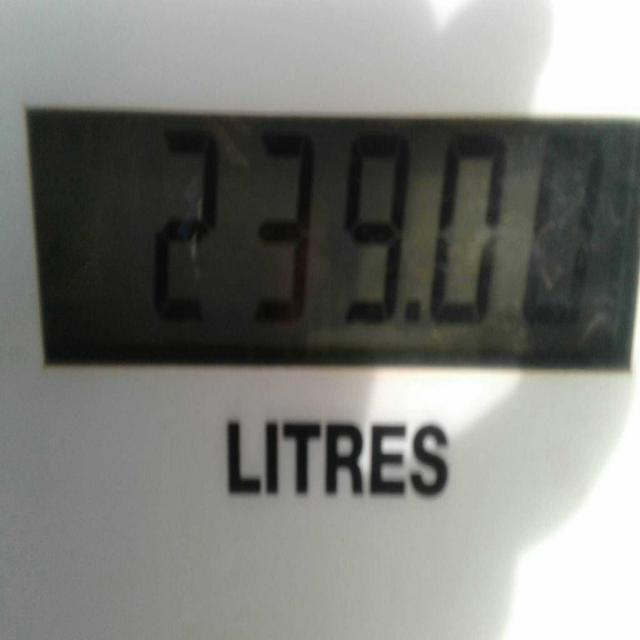.: (399, 289, 433, 347)
0: (518, 107, 604, 344), (423, 126, 506, 342)
2: (144, 115, 239, 326)
3: (245, 125, 335, 358)
9: (329, 124, 413, 346)
